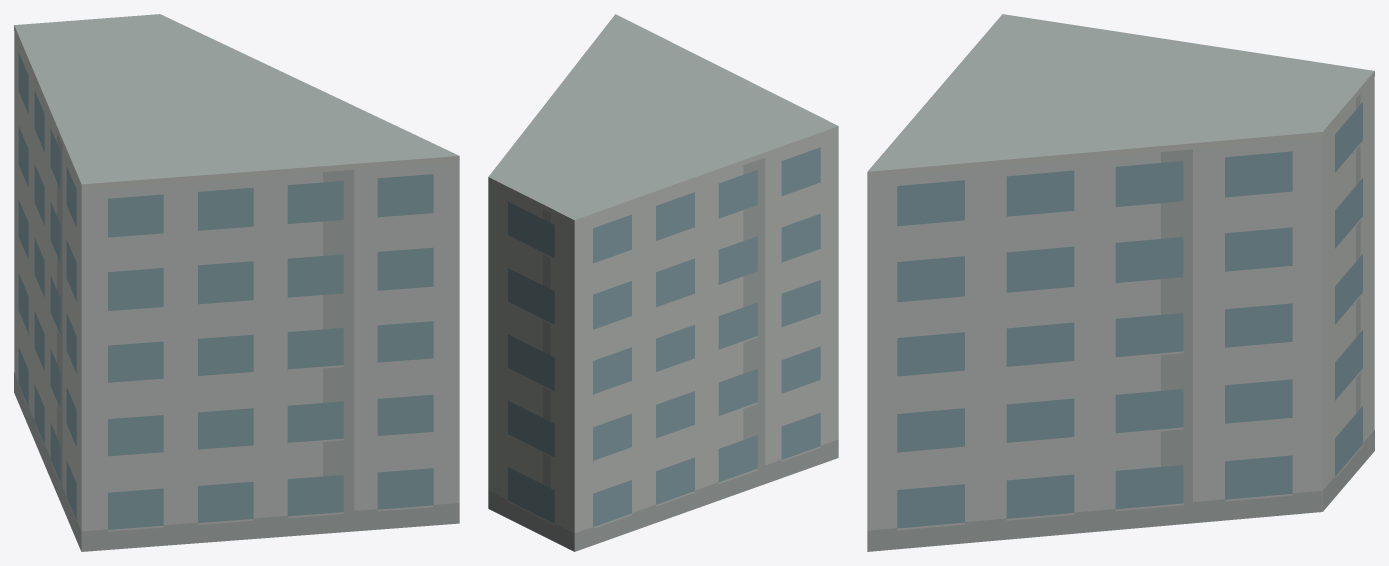
File: residential-ce4f79f4-3d41-40bb-b00e-d11b853b3632.glb
3 views of the same model, side by side, from view 1: azimuth 30°, elevation 25°; view 2: azimuth 150°, elevation 25°; view 3: azimuth 270°, elevation 25° (orthographic). The views are drawn at different scales.
Visible parts, largest first — view 1: residential-ce4f79f4-3d41-40bb-b00e-d11b853b3632.tmp; view 2: residential-ce4f79f4-3d41-40bb-b00e-d11b853b3632.tmp; view 3: residential-ce4f79f4-3d41-40bb-b00e-d11b853b3632.tmp.
Boxes of the visible parts, x1=… form: residential-ce4f79f4-3d41-40bb-b00e-d11b853b3632.tmp: x1=14, y1=14, x2=459, y2=551; residential-ce4f79f4-3d41-40bb-b00e-d11b853b3632.tmp: x1=488, y1=14, x2=838, y2=551; residential-ce4f79f4-3d41-40bb-b00e-d11b853b3632.tmp: x1=867, y1=14, x2=1374, y2=551.
Bounding box in the file's own units: 13.59 × 15.25 × 18.47.
